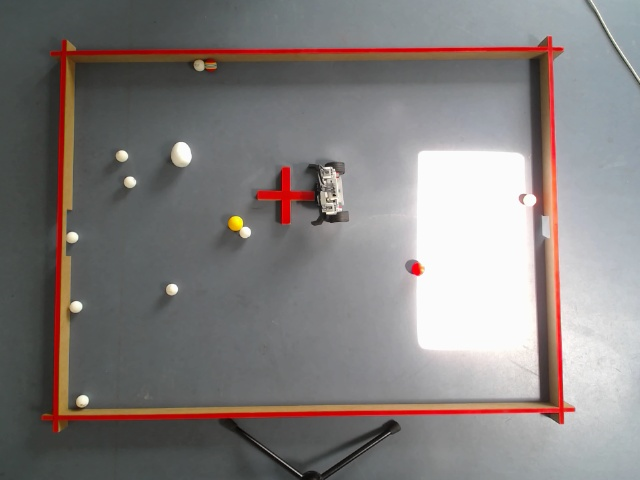big_goal: (56, 206, 72, 255)
cross: (256, 165, 314, 224)
egg: (171, 140, 192, 168)
robot: (306, 159, 347, 225)
small_goal: (540, 213, 558, 239)
wall: (40, 396, 574, 419), (532, 33, 562, 423), (49, 45, 562, 66), (52, 38, 75, 432)
white: (75, 393, 88, 407), (238, 227, 252, 239), (166, 282, 178, 296), (115, 150, 129, 162), (69, 300, 82, 311), (66, 231, 77, 243), (193, 60, 204, 71), (124, 177, 135, 186)
